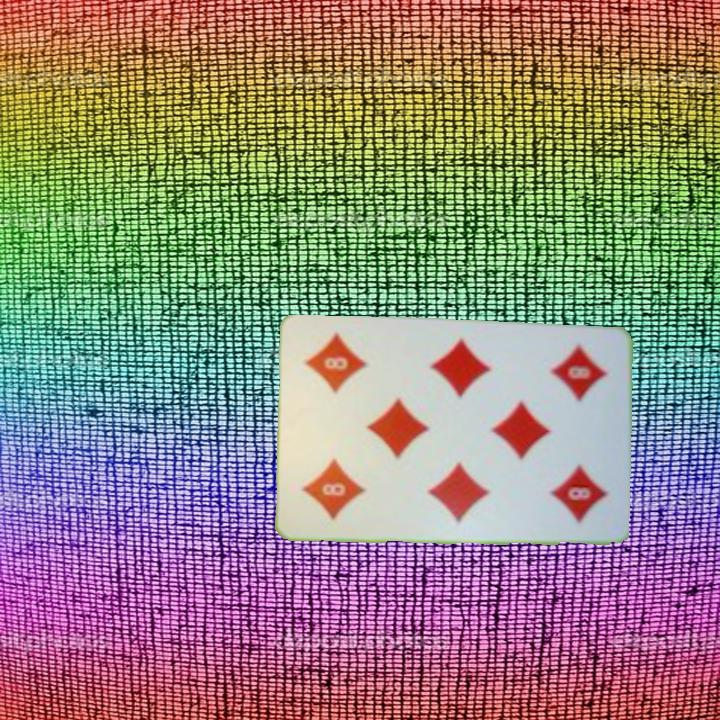d_8.png: (529, 335, 617, 437), (291, 424, 379, 526)
